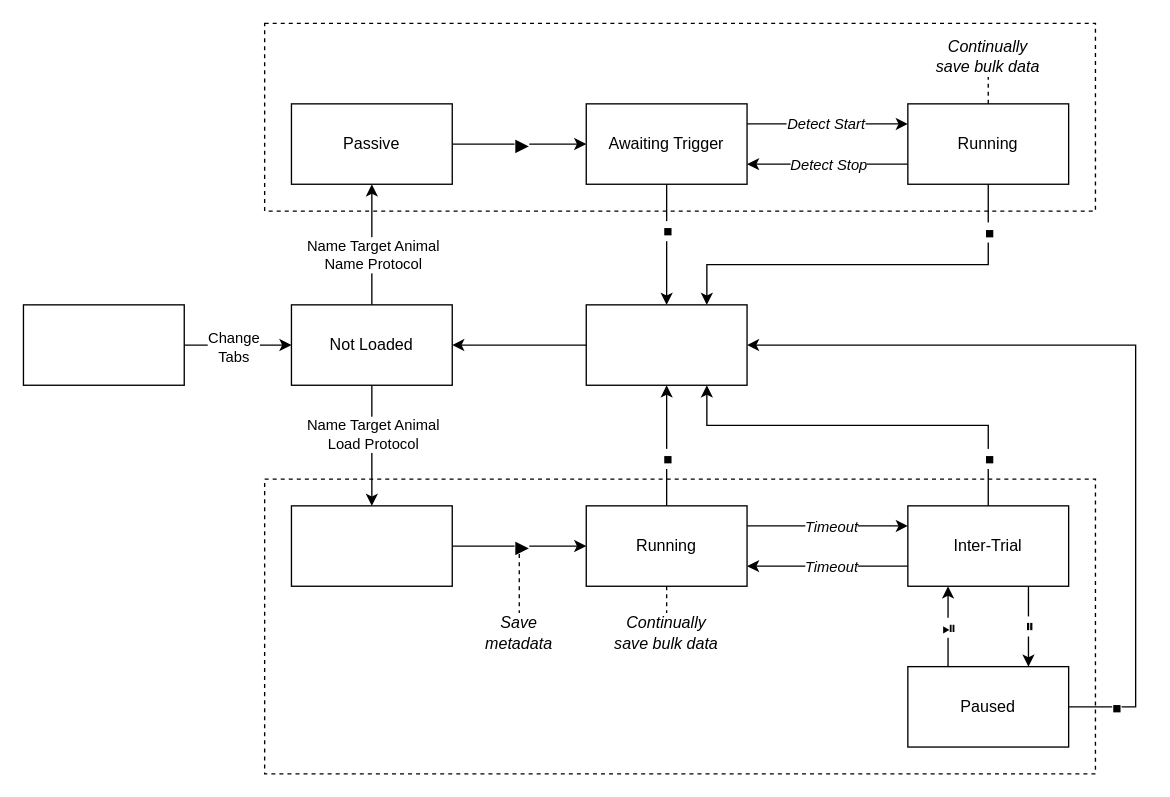
Some shapes in this 1170 by 797 pixel diagram are drawn without their labels. The centre of each missing label's shape, as x and y in pixels:
"Not Initialised (Setup Tab)" goes at (x=103, y=344).
"Ready" goes at (x=371, y=545).
"Stopping" goes at (x=666, y=344).
